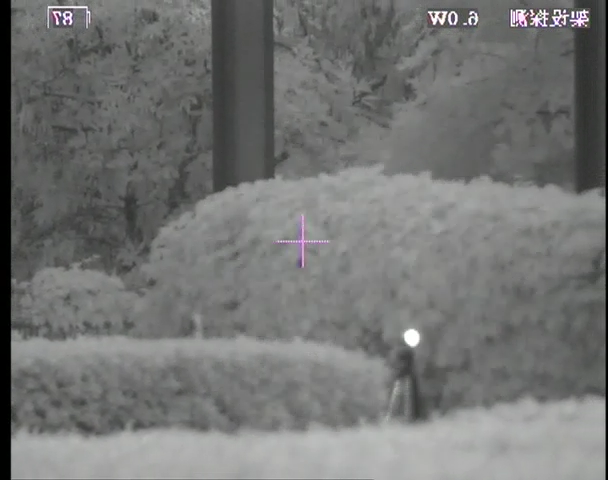my: (403, 328, 421, 349)
